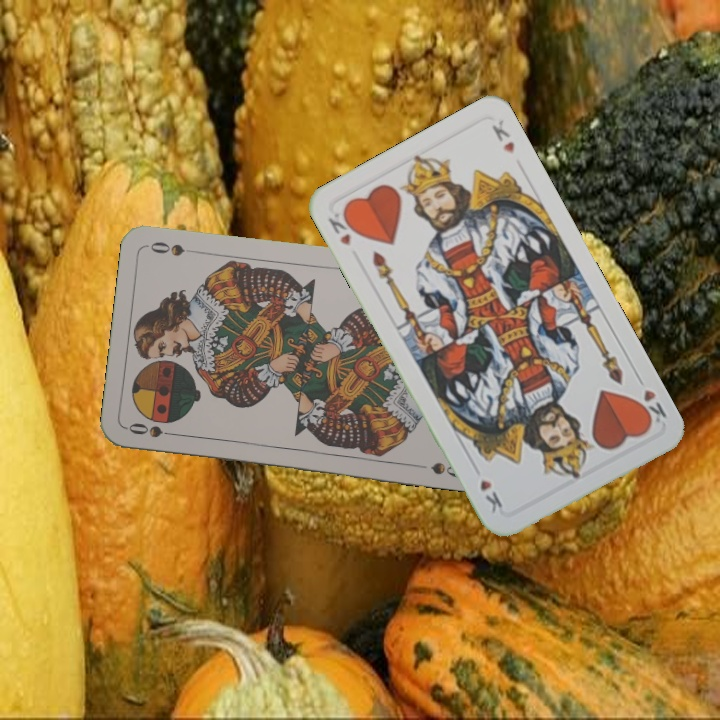HK: (632, 371, 669, 430), (324, 204, 359, 249)
SO: (124, 419, 183, 440)
